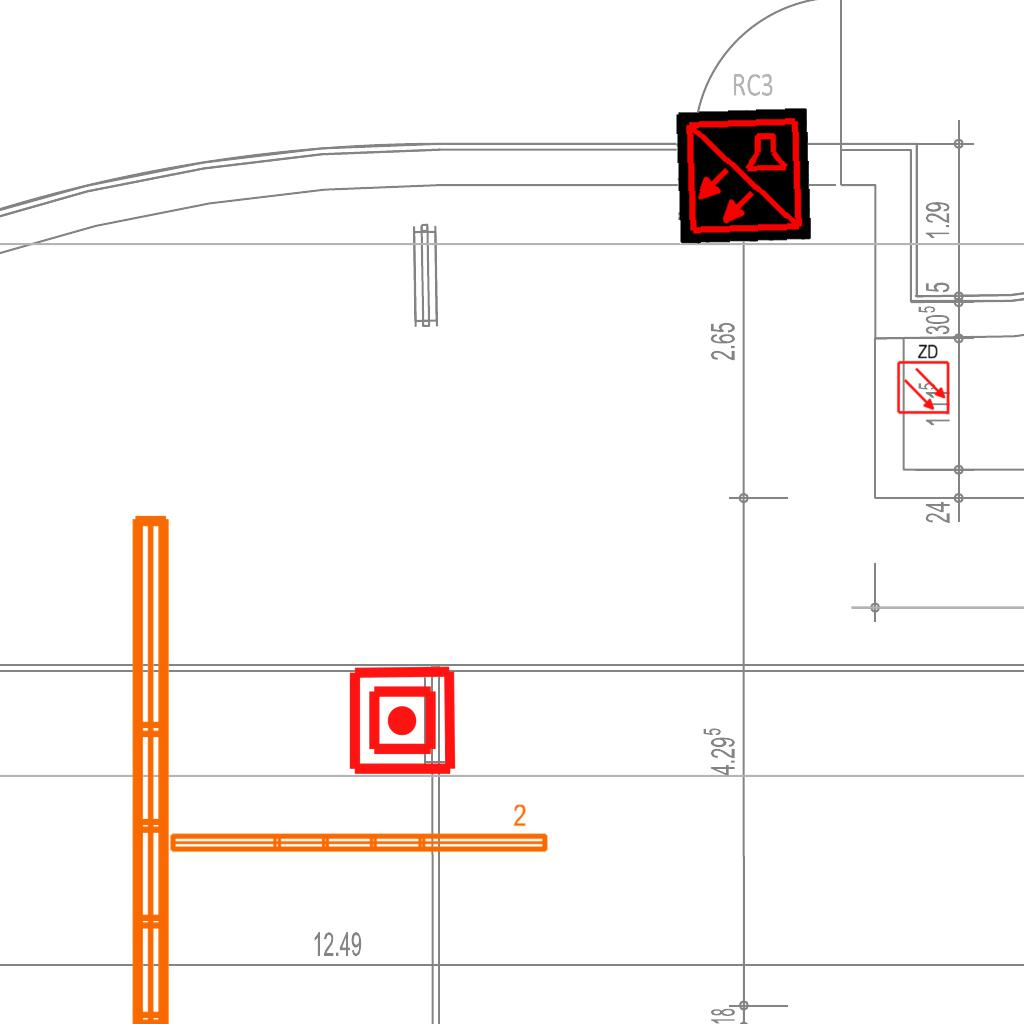Ambulanz_Pendelleuchte_LED: (120, 505, 232, 1024), (165, 802, 552, 858)
NAM-Nichtautomatischer_Melder: (346, 664, 459, 777)
OKW_Multisensormelder_(Kombination_optischer_Rauch-Kahlenmonoxid_Waerme-Melder): (674, 107, 812, 245)
ZD_Melder_in_Zwischendecke_mit_Revisionsoeffnung_mind_40_x_40_cm: (894, 341, 951, 415)
